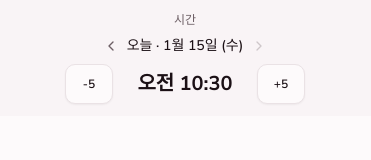
Test case: TimePicker › enters edit mode when time display is clicked
This screenshot has width=371, height=160.
Click the button "오전 10:30": [185, 84] box [125,66,245,102]
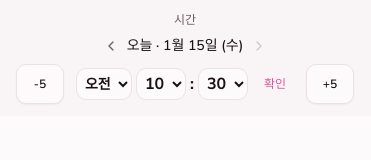
Expected: the button "확인" is shown, [256,72,294,96]
